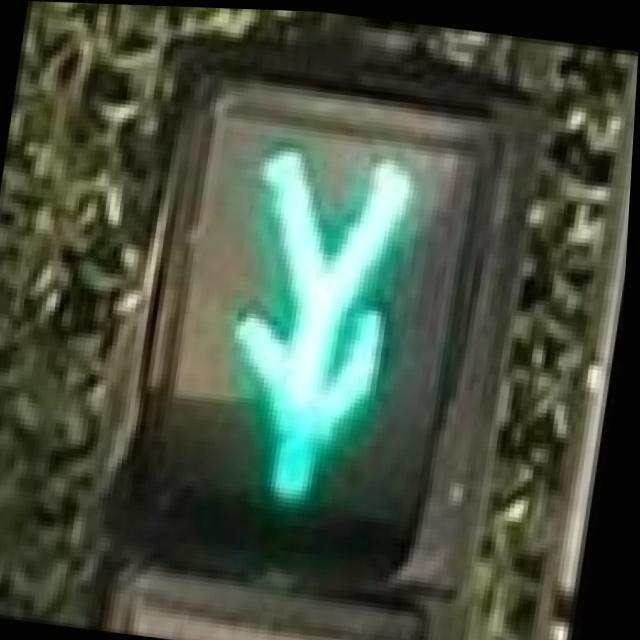green_light: (134, 100, 463, 562)
